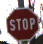stopsign: (6, 8, 40, 41)
